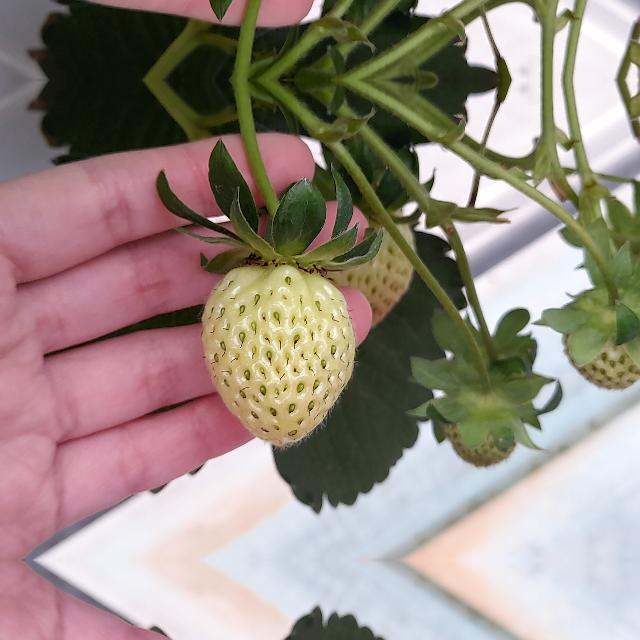Health_25: (202, 264, 354, 446), (557, 292, 639, 394), (440, 388, 516, 468)
